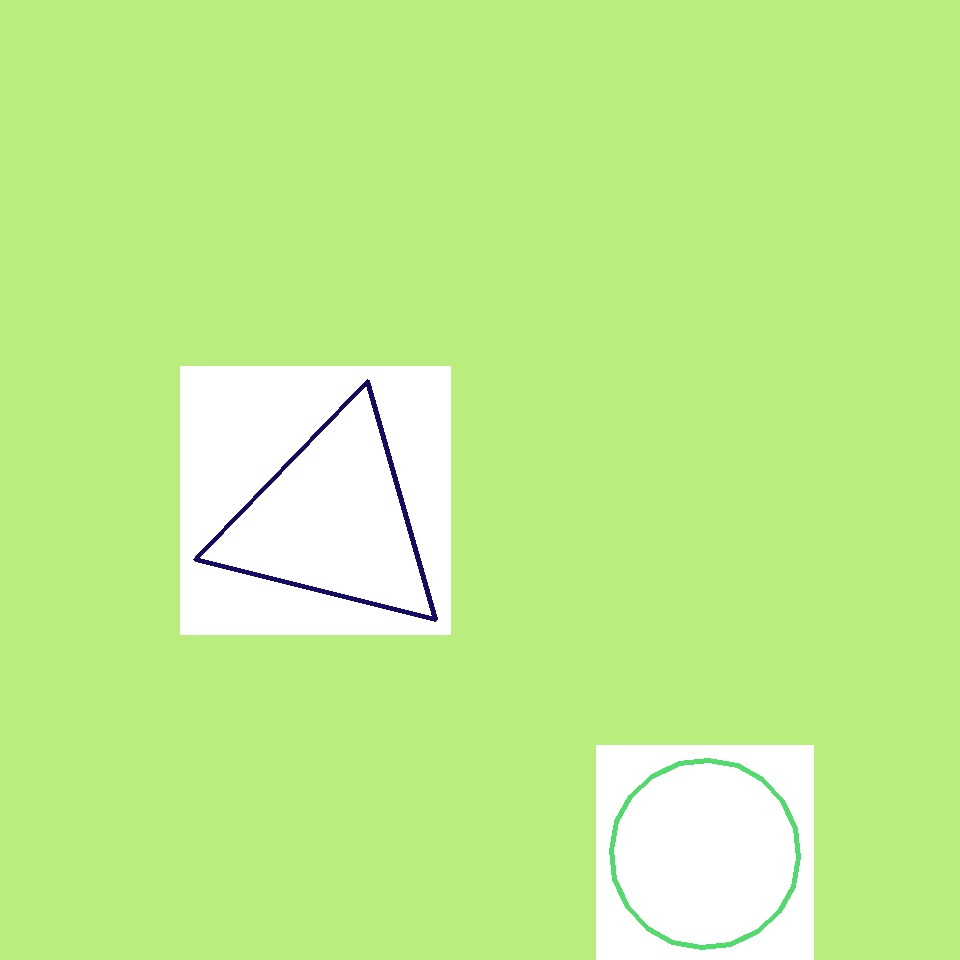circle: (213, 401, 453, 639), (346, 192, 480, 346)
square: (624, 266, 843, 484)
triangle: (612, 760, 798, 948)
